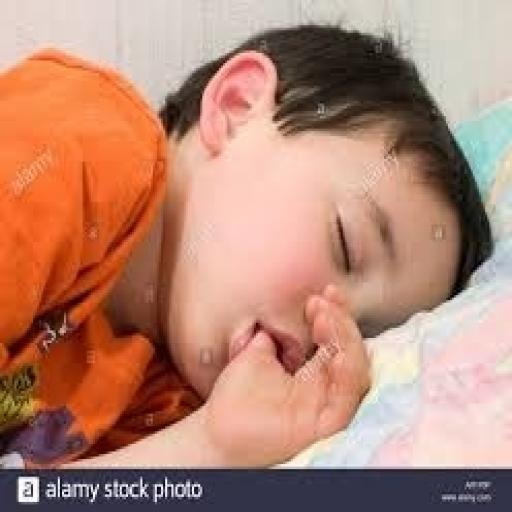sleeping: (0, 20, 495, 469)
